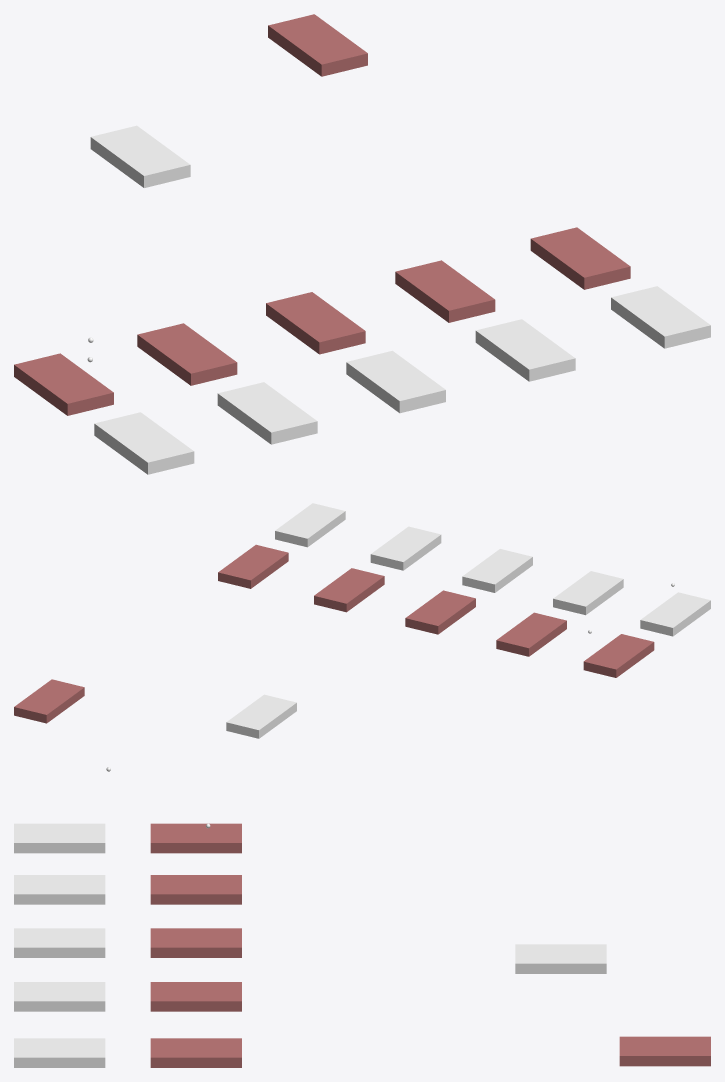
The model's file is constraints.glb.
The picture shows the model from 3 angles, top to bottom: view 1: azimuth 30°, elevation 25°; view 2: azimuth 150°, elevation 25°; view 3: azimuth 270°, elevation 25°; orthographic projection. The views are drawn at different scales.
Parts seen in each view (by area): view 1: Cube (7), Distance Parent, Point Parent, Cube (1), Cube (5), PathParent, HingeParent, Cube (3), Pulley Parent, Cube (11), Slider Parent, Cube (8); view 2: Cube (5), Pulley Parent, Cube (7), Point Parent, Cube (1), PathParent, HingeParent, Cube (8), Cube (11), Distance Parent, Slider Parent, Cube (3); view 3: Cube (8), Cube (7), Pulley Parent, Distance Parent, Slider Parent, HingeParent, Point Parent, Cube (1), Cube (3), Cube (5), Cube (11), PathParent.
Part boxes in pixels (x1,y1,x2,y2): Cube (7): [94, 412, 194, 474]; Distance Parent: [137, 323, 237, 385]; Point Parent: [530, 227, 630, 289]; Cube (1): [217, 382, 317, 444]; Cube (5): [475, 319, 575, 381]; PathParent: [90, 125, 190, 187]; HingeParent: [395, 260, 495, 322]; Cube (3): [346, 350, 445, 413]; Pulley Parent: [14, 353, 113, 415]; Cube (11): [611, 286, 710, 348]; Slider Parent: [266, 292, 365, 354]; Cube (8): [268, 14, 367, 76]; Cube (5): [370, 526, 441, 570]; Pulley Parent: [583, 634, 654, 677]; Cube (7): [640, 592, 710, 636]; Point Parent: [218, 544, 288, 588]; Cube (1): [553, 571, 623, 615]; PathParent: [226, 694, 296, 738]; HingeParent: [314, 568, 384, 612]; Cube (8): [14, 679, 84, 723]; Cube (11): [275, 503, 345, 547]; Distance Parent: [496, 612, 566, 656]; Slider Parent: [405, 590, 475, 634]; Cube (3): [462, 549, 532, 592]; Cube (8): [619, 1036, 710, 1066]; Cube (7): [14, 823, 105, 853]; Pulley Parent: [150, 823, 241, 853]; Distance Parent: [150, 875, 241, 904]; Slider Parent: [150, 928, 241, 957]; HingeParent: [150, 982, 241, 1011]; Point Parent: [150, 1038, 241, 1067]; Cube (1): [14, 875, 105, 904]; Cube (3): [14, 928, 105, 957]; Cube (5): [14, 982, 105, 1011]; Cube (11): [14, 1038, 105, 1067]; PathParent: [515, 944, 606, 973].
Size of the model in its own units: 12.51 by 1.59 by 15.29.
